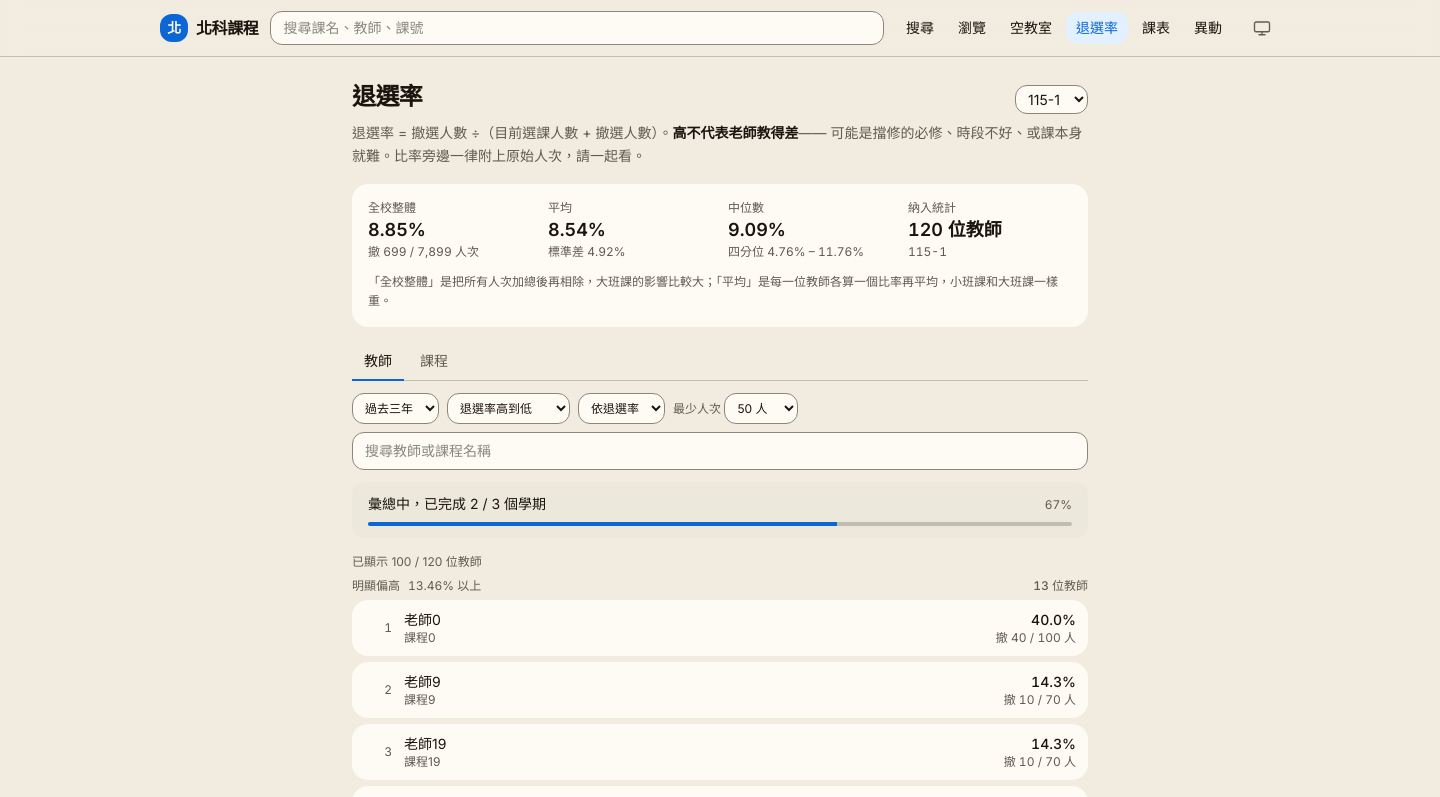
Test case: /withdrawal › 排序、分組、門檻與期間都會改網址;不依退選率排序時不給名次
The image size is (1440, 797).
Check: the heading "退選率" is shown, box [352,81,422,113]
Check: the link "1 老師0 課程0 40.0% 撤 40 / 100 人" is shown, box [352,600,1088,656]
Select "名稱" in the dropdown named "排序": (508, 408) [447,392,570,424]
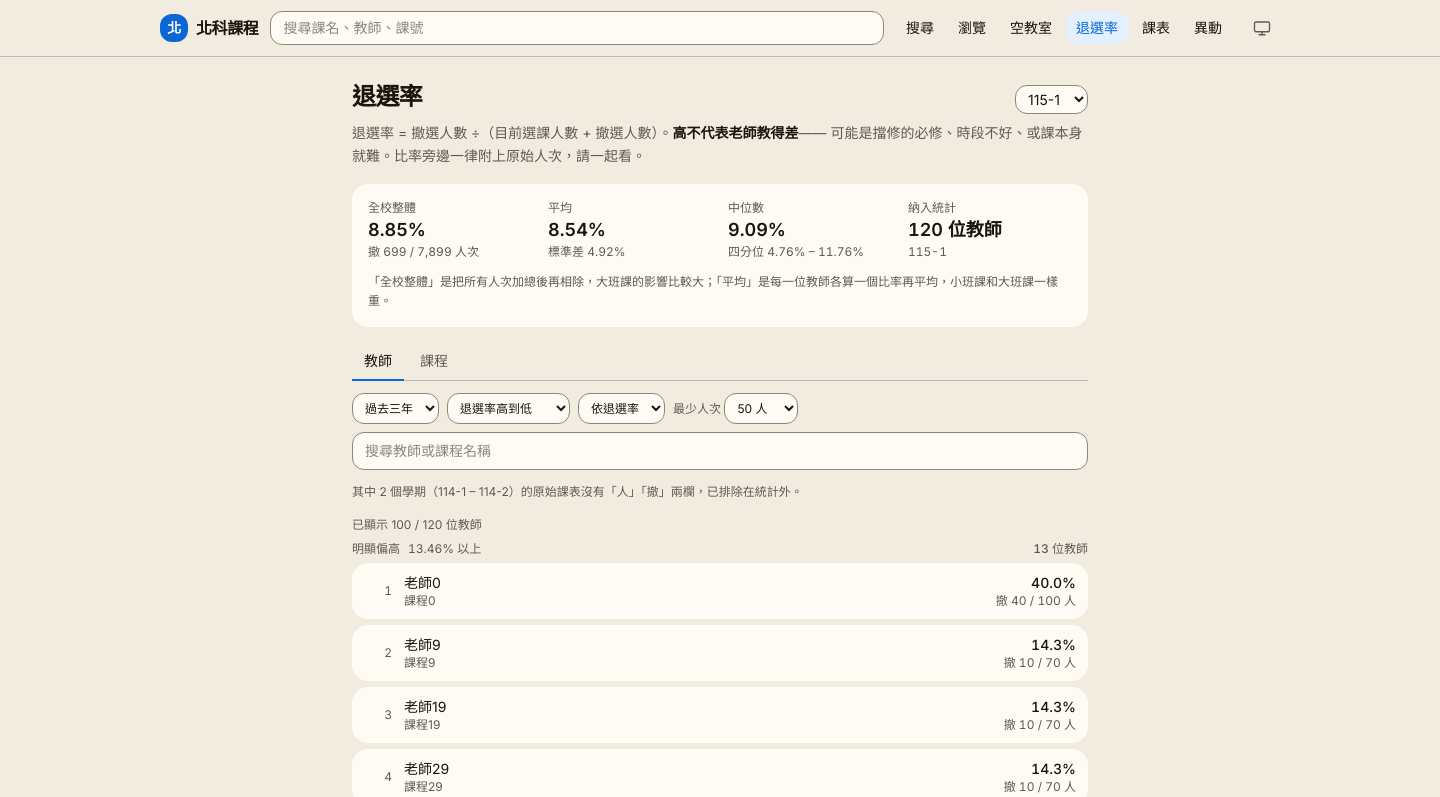
Select "不分組" in the dropdown named "分組": (622, 408) [578,392,665,424]
Select "100 人" in the dropdown named "最少修課人次": (761, 408) [724,392,798,424]
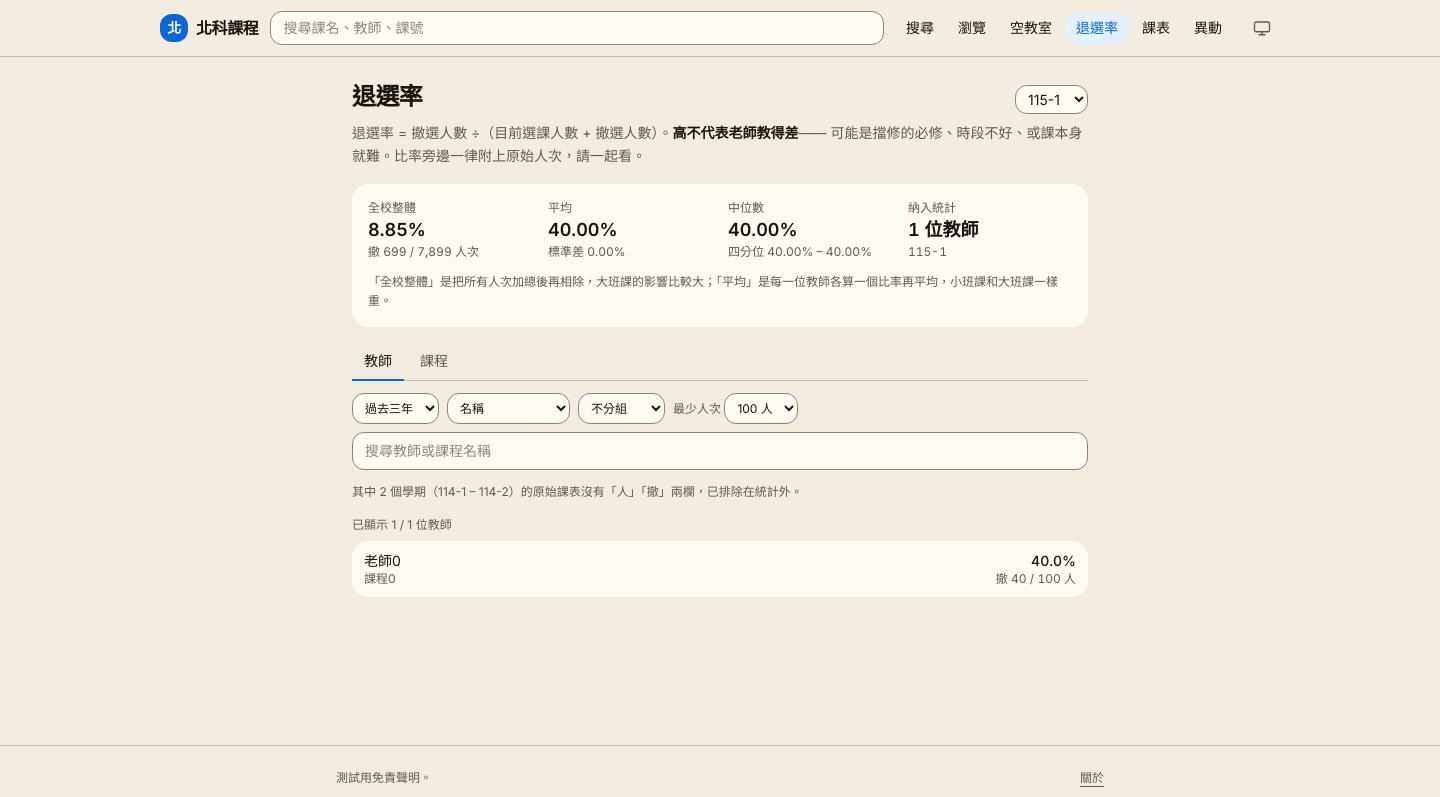
Check: the text "已顯示 1 / 1 位教師" is shown, box [352,517,452,532]
Select "這個學期" in the dropdown named "期間": (396, 408) [352,392,439,424]
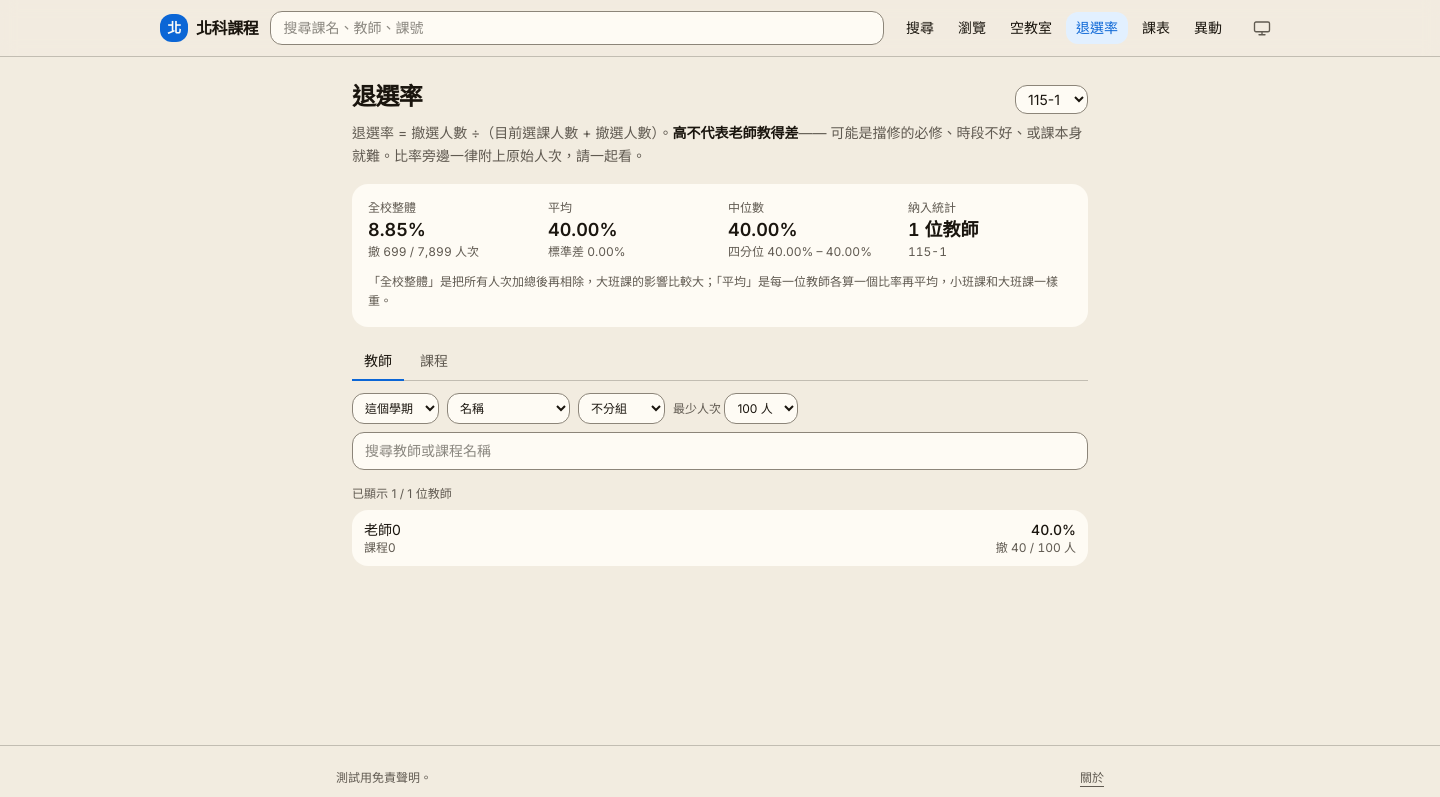
Check: the text "的原始課表沒有「人」「撤」兩欄" is gone
